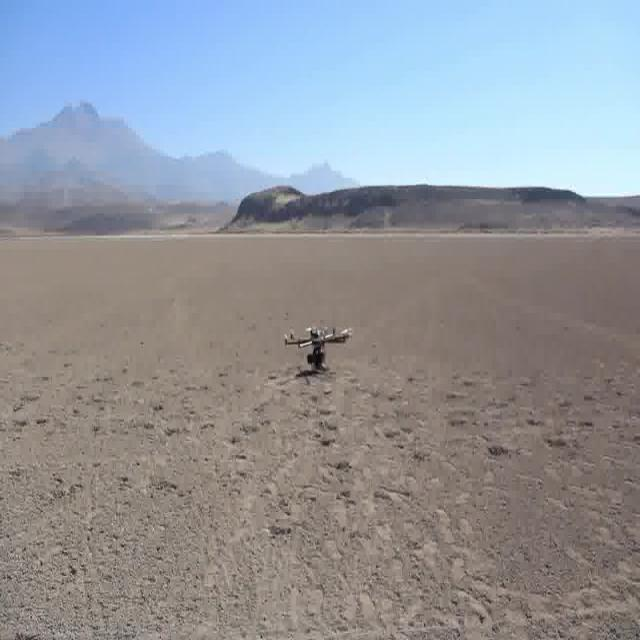drone: (280, 313, 359, 376)
